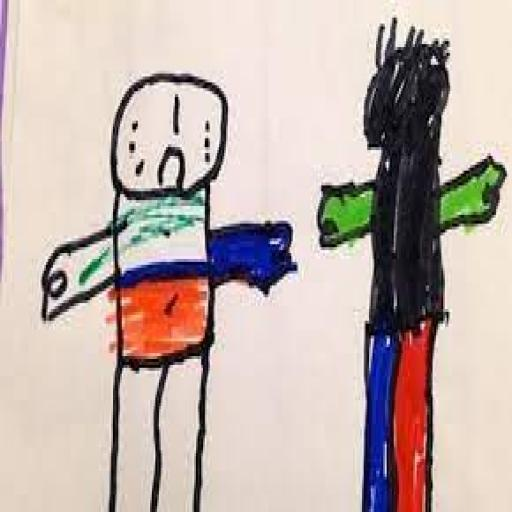person: (24, 56, 306, 512), (318, 15, 512, 512)
